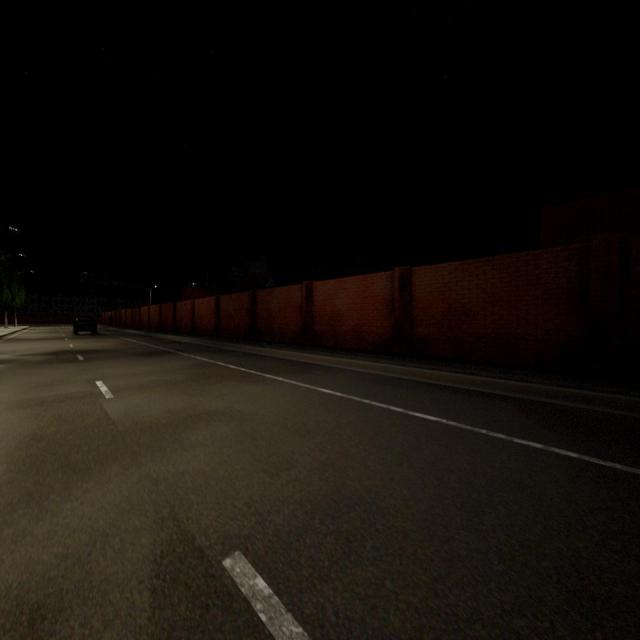Vehicle: (74, 315, 96, 335)
